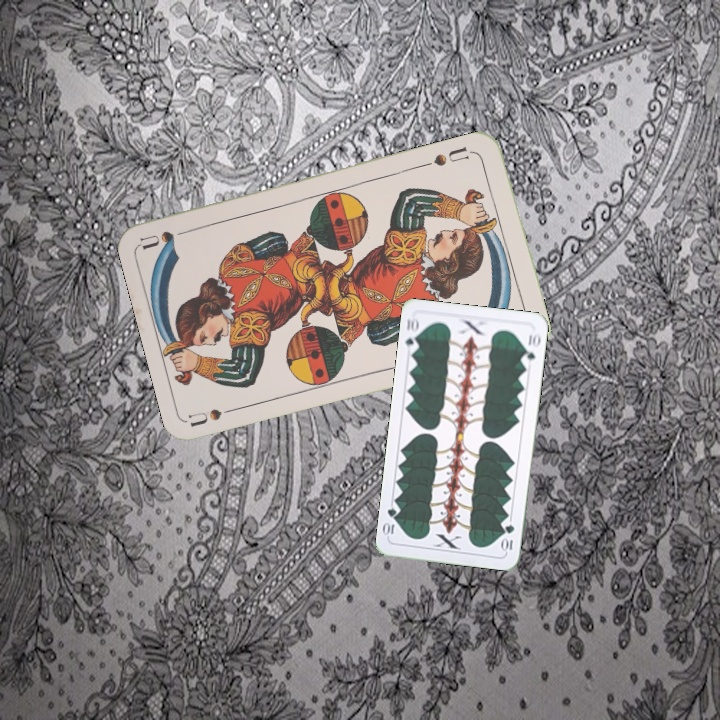G10: (401, 313, 422, 354), (499, 520, 517, 554)
SU: (186, 402, 246, 429), (429, 142, 471, 169)
